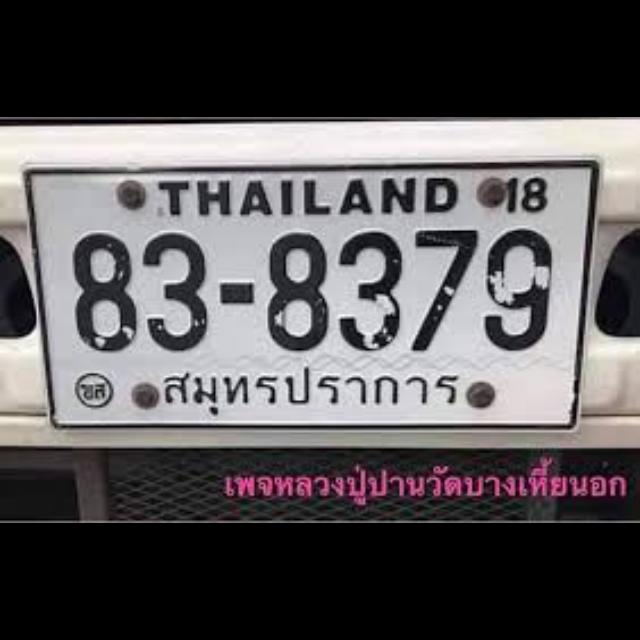licenseplate: (22, 166, 588, 432)
